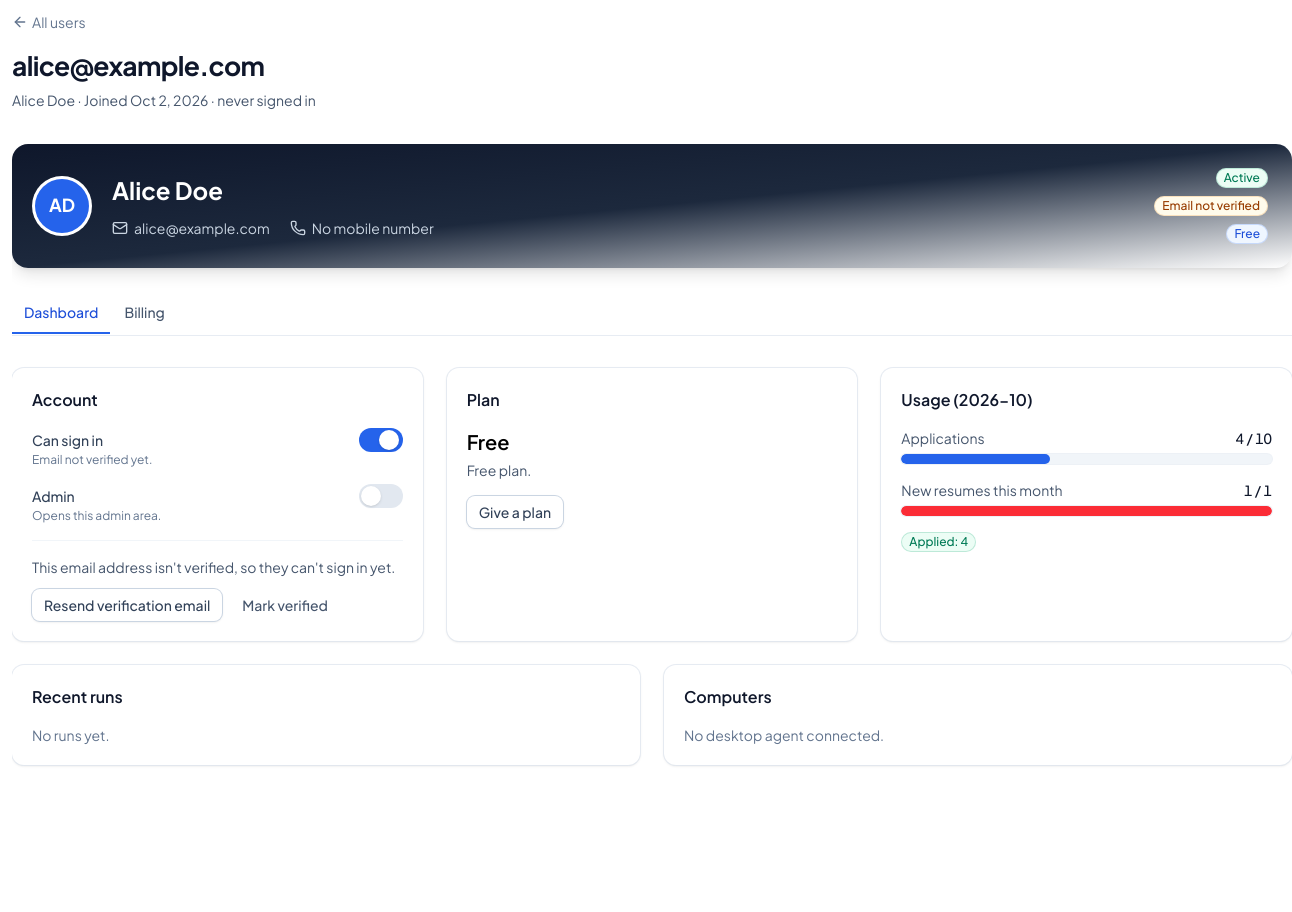
admin area › resends verification for an unverified user
Click the button "Resend verification email" at (127, 605), box [32,589,222,621]
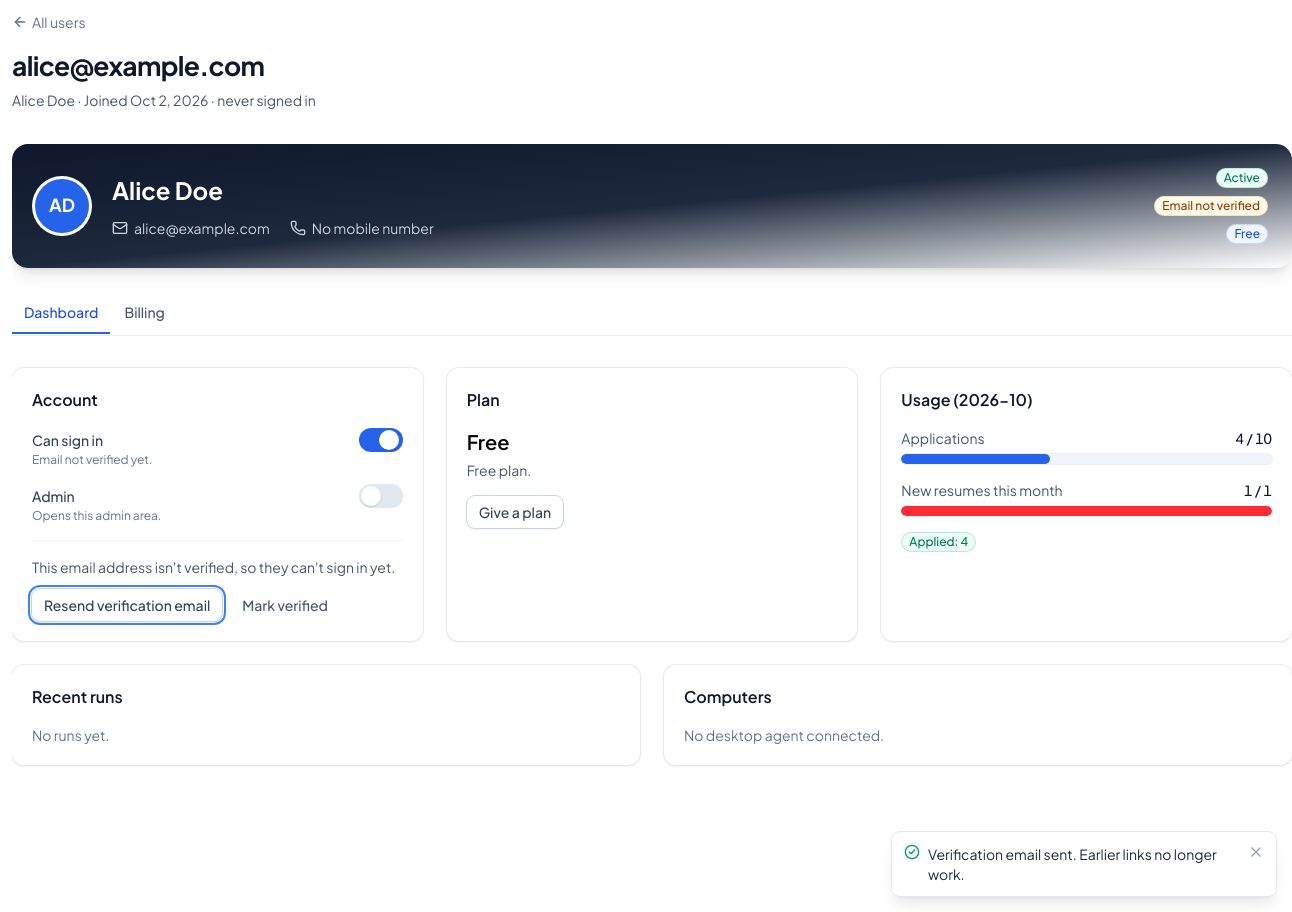
Check: the text "Verification email sent. Earlier links no longer work." is shown, box [928,844,1240,884]
